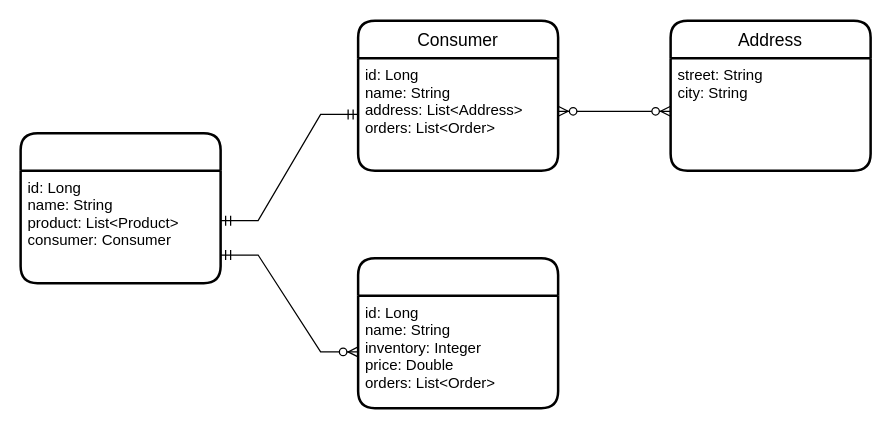
The diagram is 891 pixels wide and 429 high, and some of its shapes have lost their labels. Here are the shapes that lost their labels. From the top down, the box of each, then its label:
(19, 131, 221, 284): Order
(356, 256, 559, 409): Product
